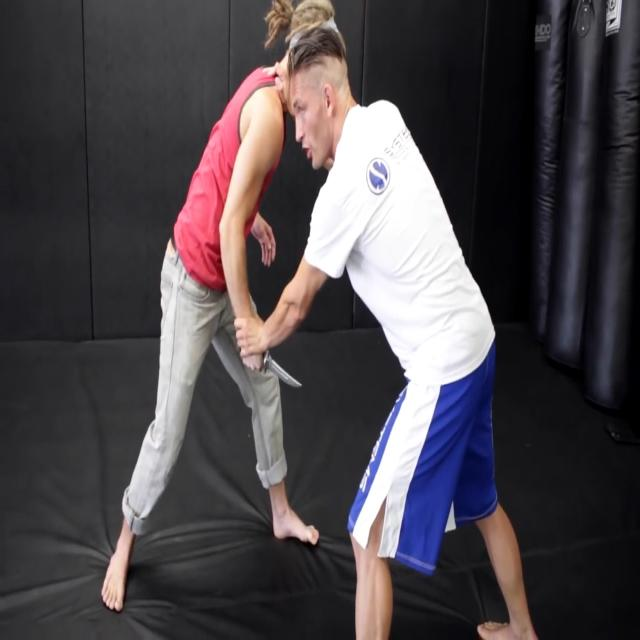knife: (262, 352, 305, 400)
